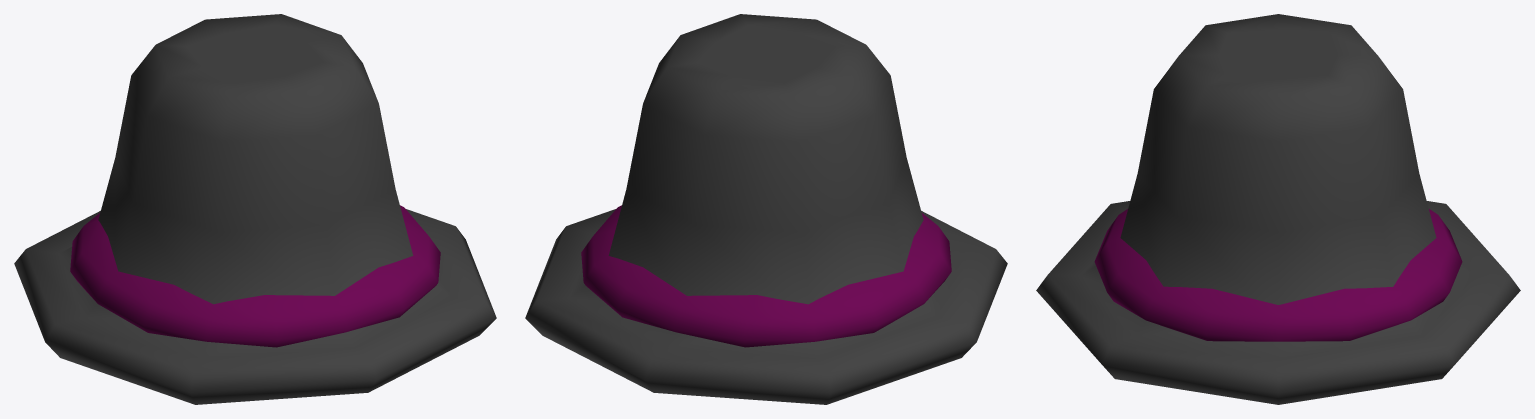
The model's file is tophat 1.fbx.
The picture shows the model from 3 angles, left to right: view 1: azimuth 30°, elevation 25°; view 2: azimuth 150°, elevation 25°; view 3: azimuth 270°, elevation 25°; orthographic projection.
Visible parts, largest first — view 1: Cube, Cube.001; view 2: Cube, Cube.001; view 3: Cube, Cube.001.
Part boxes in pixels (bbox=[...]): Cube: bbox=[14, 14, 496, 404]; Cube.001: bbox=[70, 205, 440, 347]; Cube: bbox=[525, 14, 1007, 404]; Cube.001: bbox=[581, 205, 951, 347]; Cube: bbox=[1036, 14, 1520, 404]; Cube.001: bbox=[1094, 209, 1462, 341].
Size of the model in its own units: 440 by 260 by 440.
